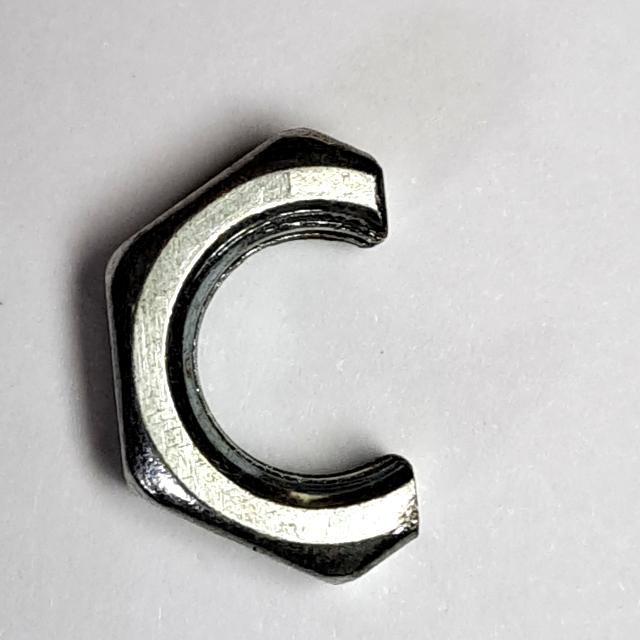Fracture: (94, 109, 457, 601)
